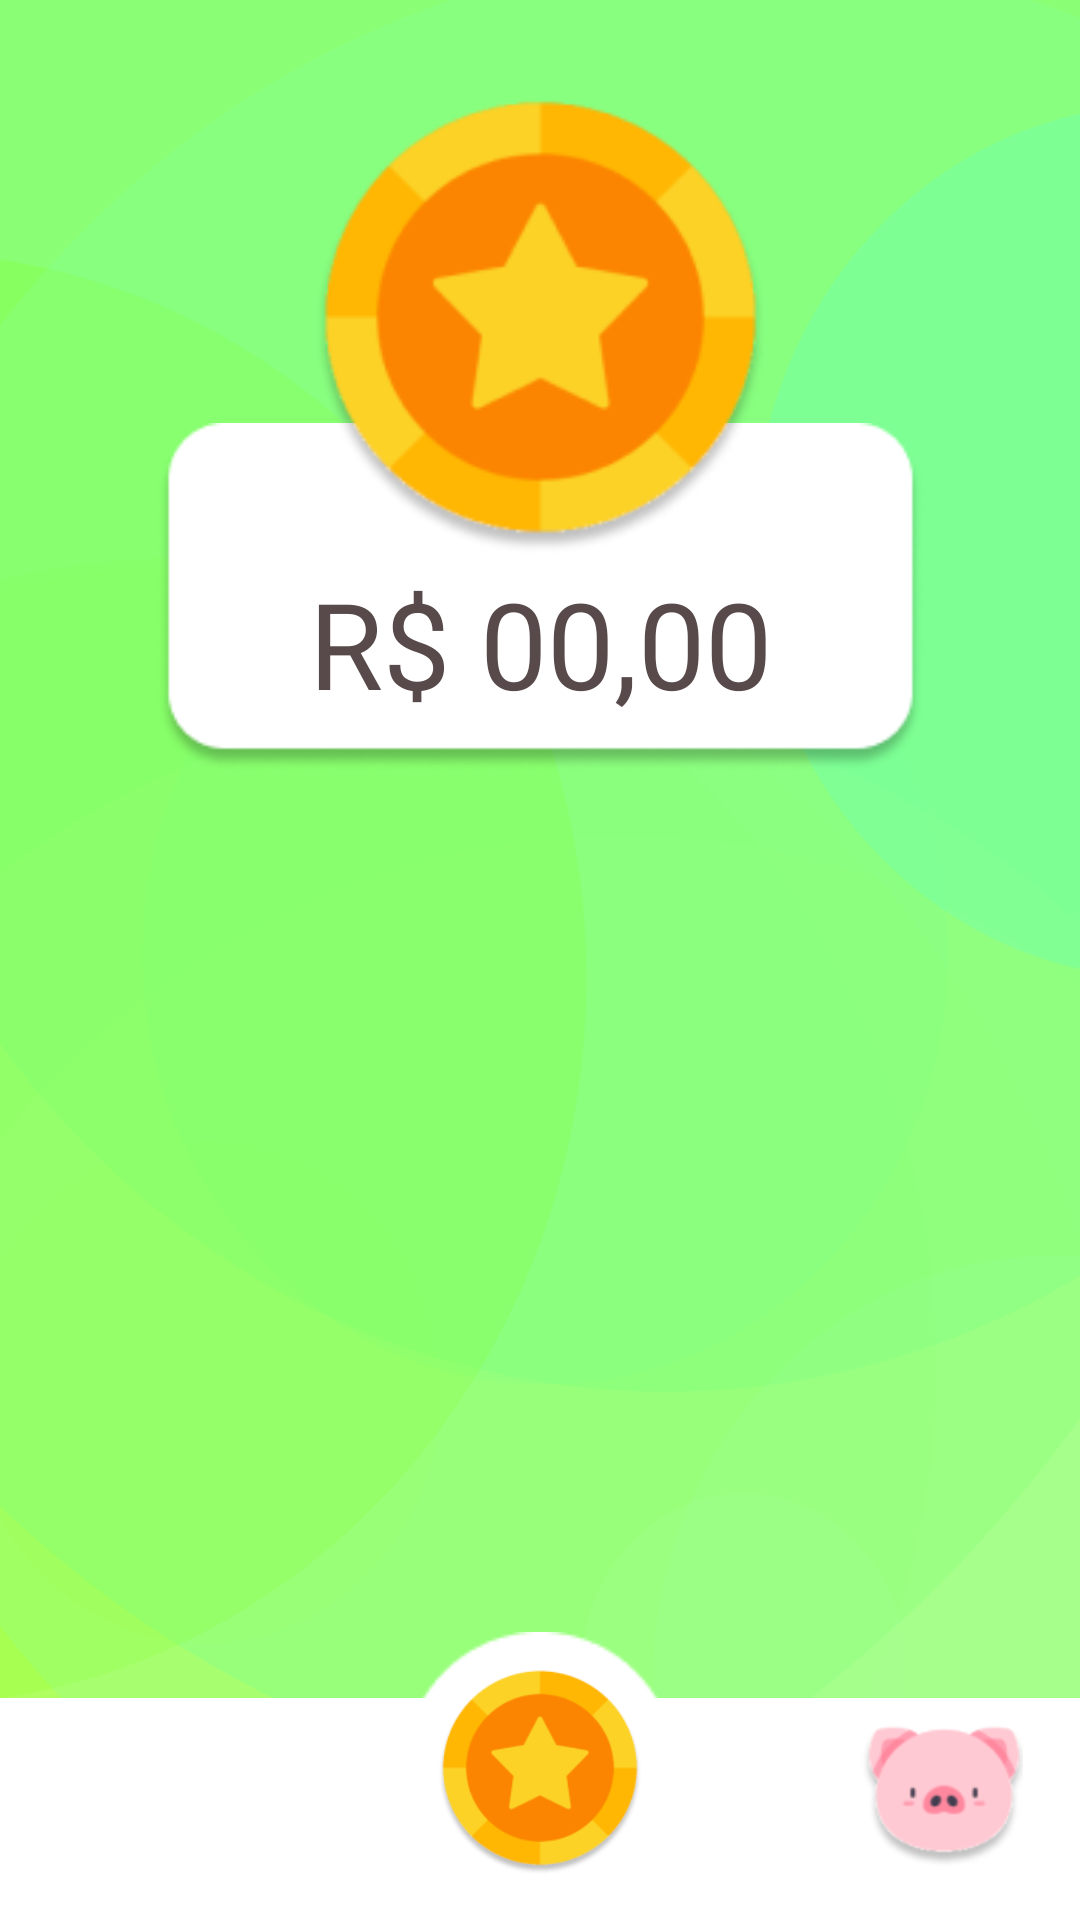

Screen size 1080w x 1920h. Icon name, then its center in pixels as (x=x, y=y):
pig: (x=944, y=1794)
